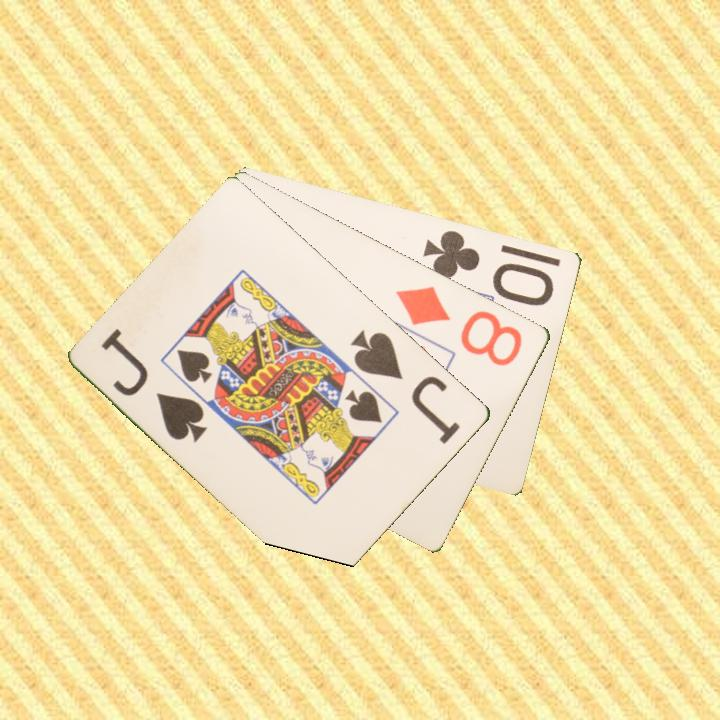10c: (420, 226, 558, 307)
8d: (392, 282, 526, 369)
Js: (347, 326, 464, 447), (97, 324, 212, 446)
